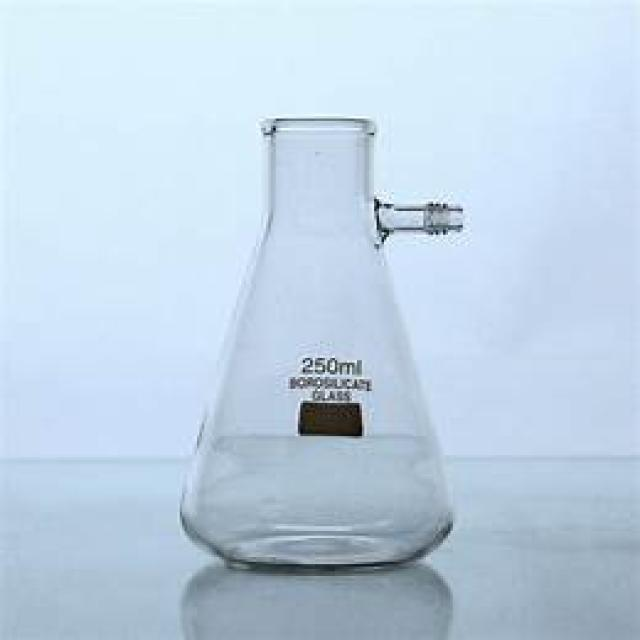Titrarion: (166, 94, 460, 574)
